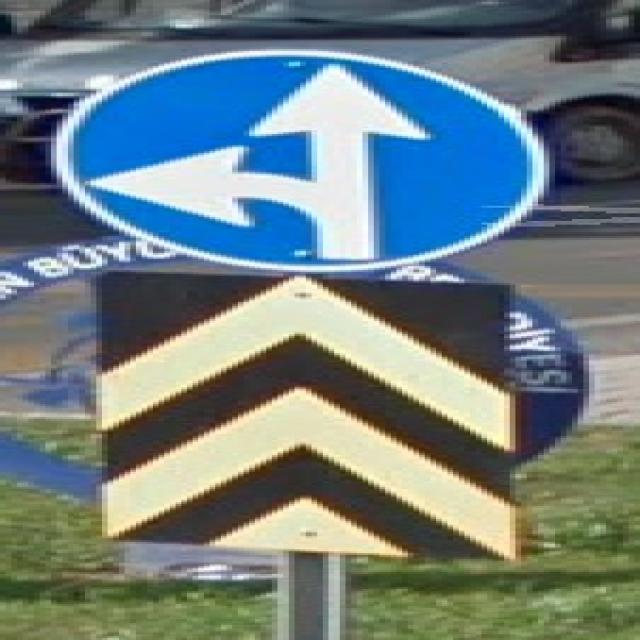Straight or Left: (52, 51, 545, 272)
